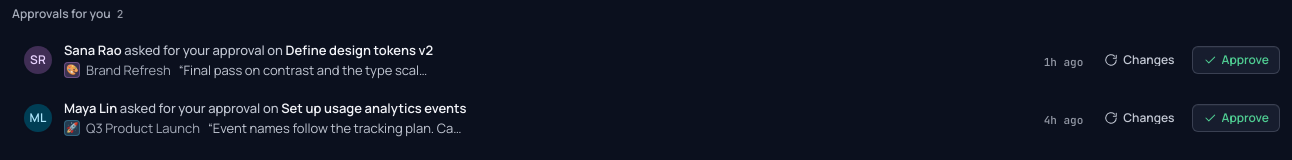
Test: ApprovalsInboxGroup › a request someone else already closed drops out with a note, without an error on the row
Click the button "Approve" in the row of "1h ago". click: (1236, 60)
box: [1192, 46, 1280, 74]
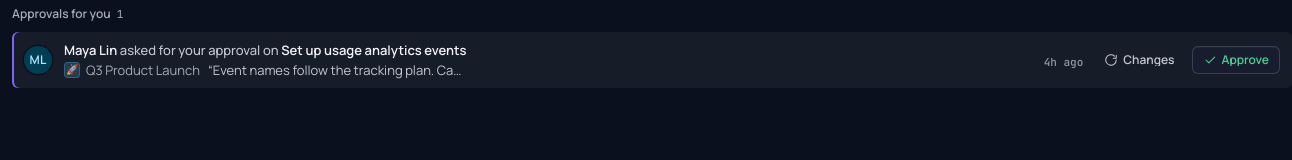
Now the number of list items is 1, box [12, 32, 1291, 88]
